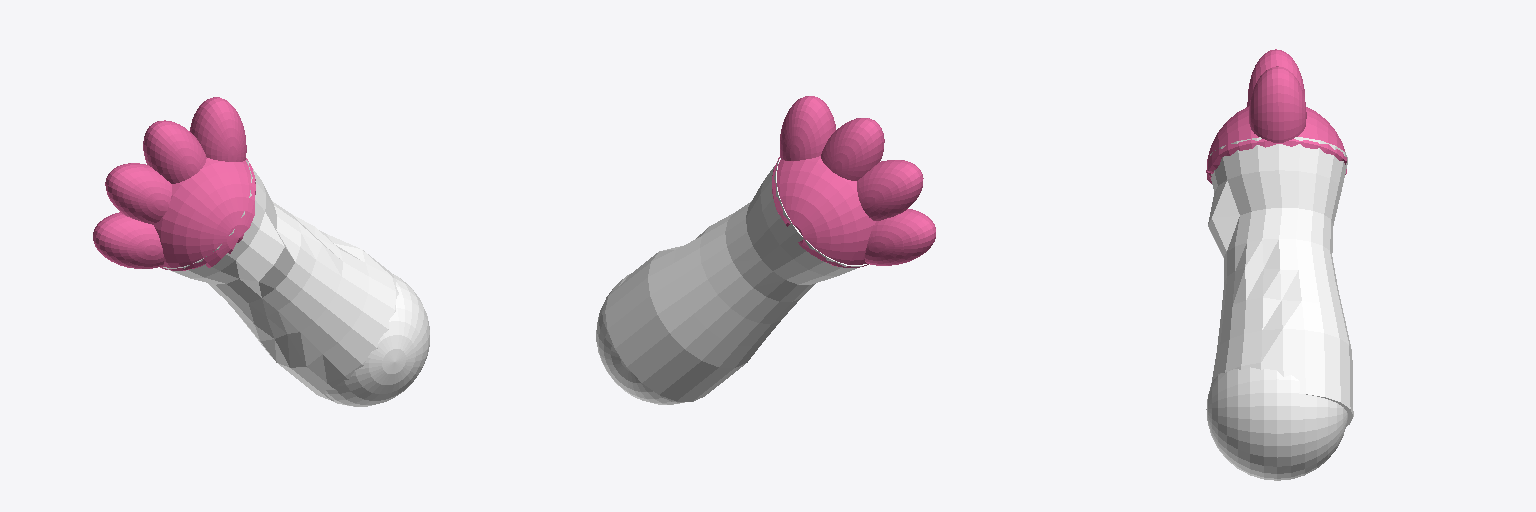
The picture shows the model from 3 angles: view 1: azimuth 30°, elevation 25°; view 2: azimuth 150°, elevation 25°; view 3: azimuth 270°, elevation 25°; orthographic projection.
Parts seen in each view (by area): view 1: mano_d; view 2: mano_d; view 3: mano_d.
Part boxes in pixels (left/top/right/bottom): mano_d: left=93, top=97, right=429, bottom=406; mano_d: left=596, top=96, right=935, bottom=404; mano_d: left=1206, top=49, right=1353, bottom=480.
Bounding box in the file's own units: 3.72 × 3.66 × 1.45.
Materials: 1 (1 with a texture image).